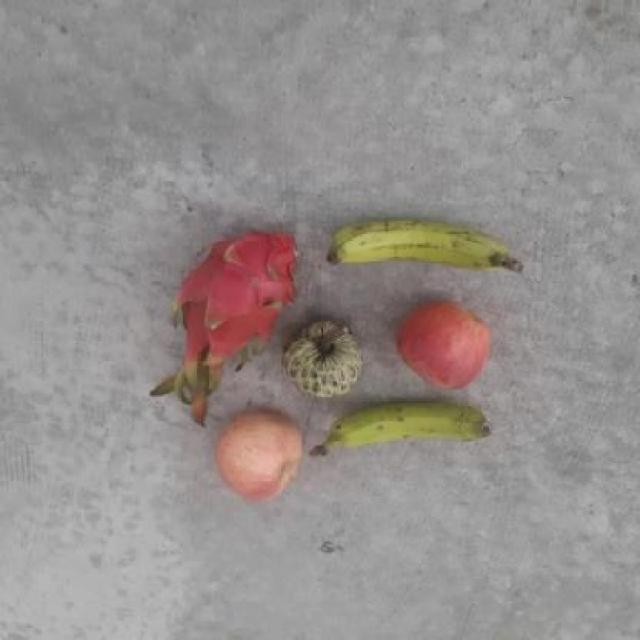apple: (389, 285, 496, 392), (205, 404, 310, 507)
banana: (324, 205, 518, 281), (313, 394, 493, 466)
dragon fruit: (172, 225, 316, 360)
sugar apple: (273, 316, 369, 410)
